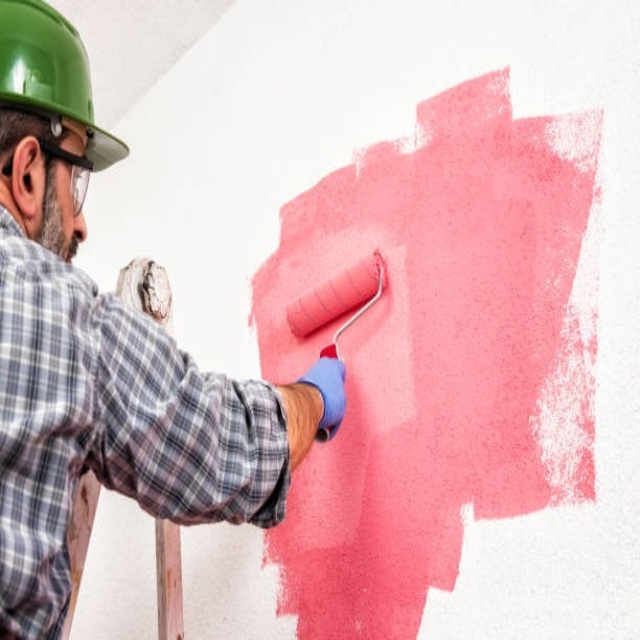Gafas: (3, 135, 95, 212)
Guantes: (294, 350, 349, 439)
Sin_mascara: (65, 235, 81, 261)
